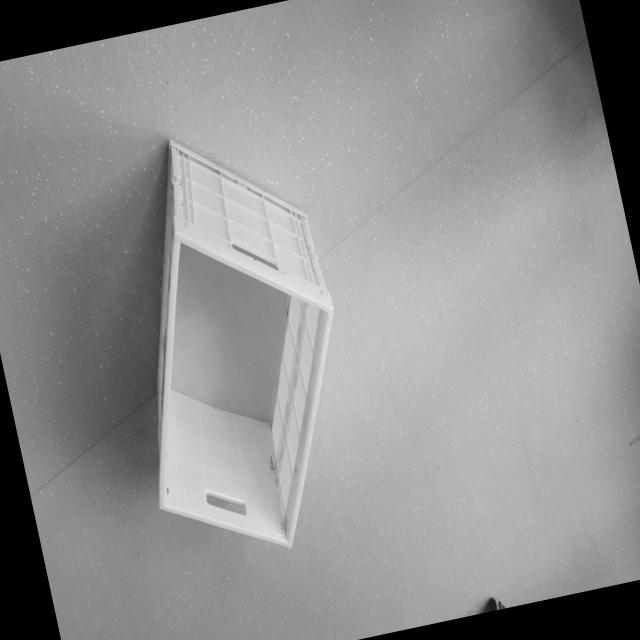box: (75, 93, 386, 576)
